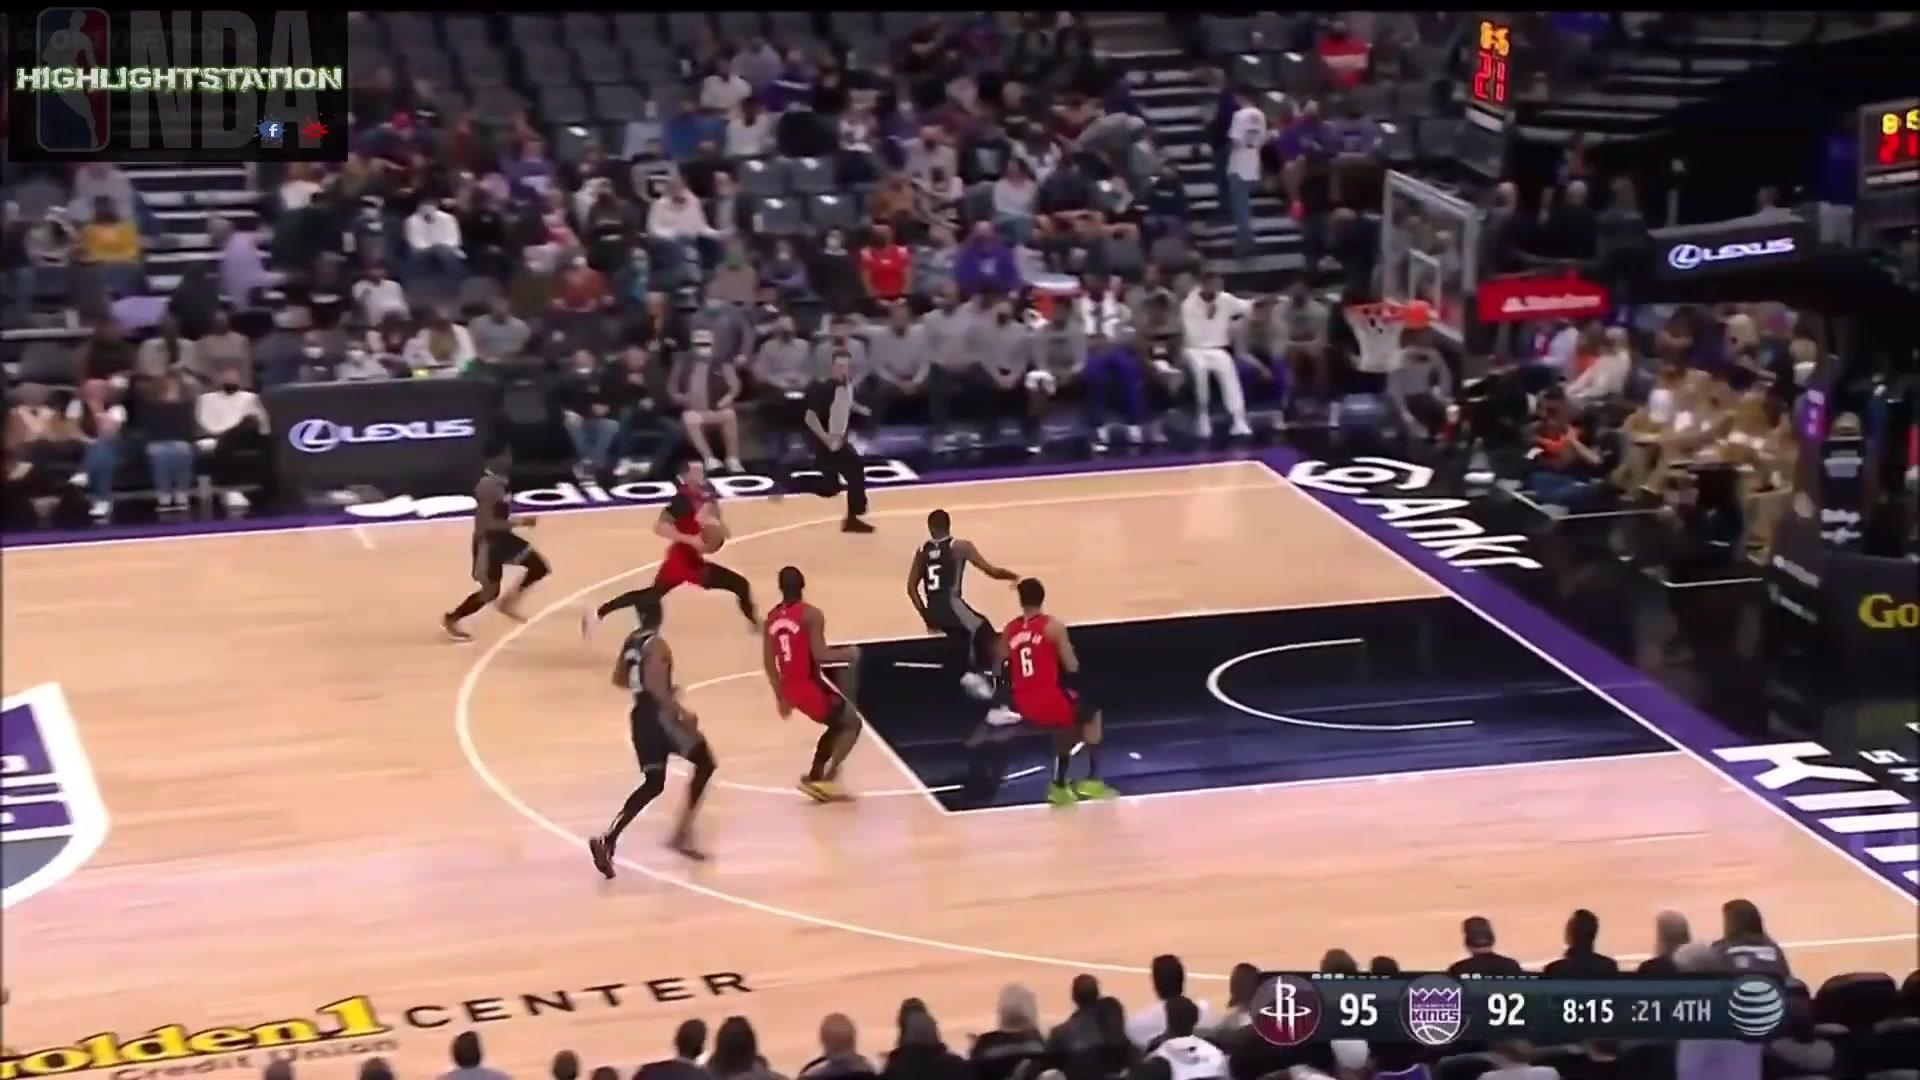no_foul: (905, 505, 1125, 791)
